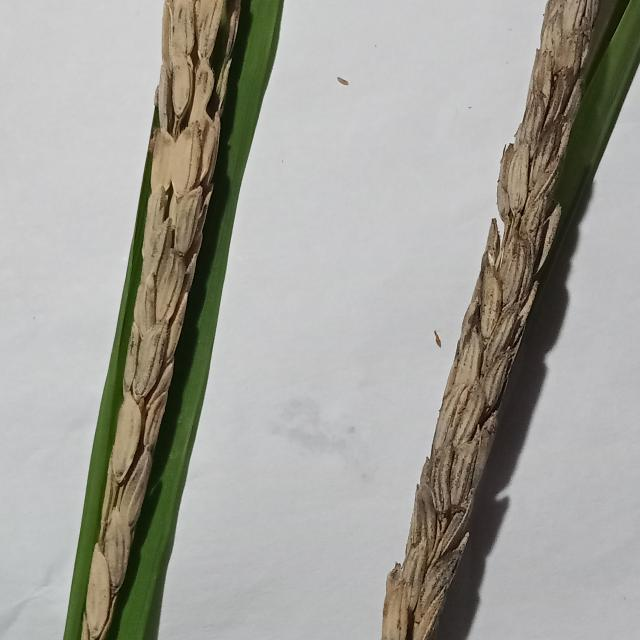Neck_Blast: (383, 0, 638, 640), (73, 0, 252, 640)
